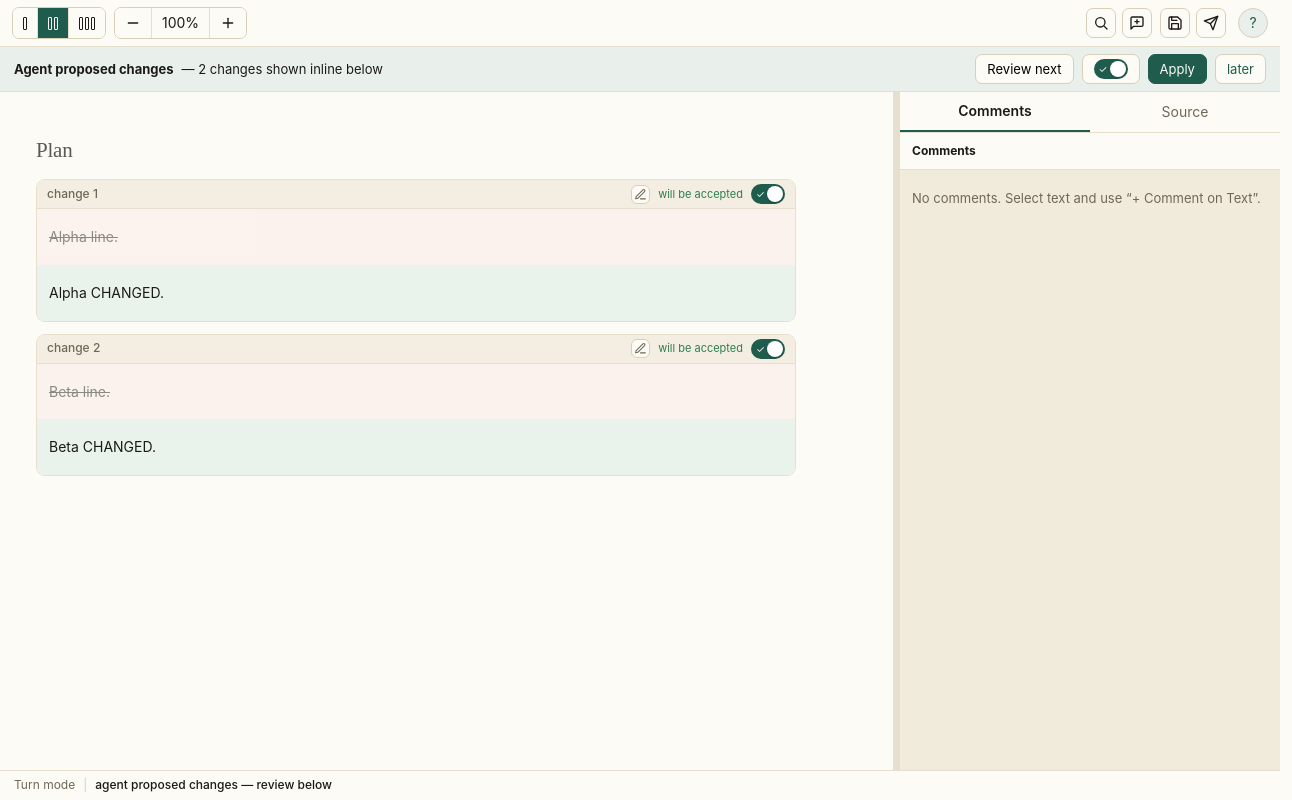
Scenario: App deep review flow (memory-backed) › "Review next" steps the N/total cursor across the change hunks
The width and height of the screenshot is (1292, 800).
Click the button "Review next": click(1024, 69) [975,54,1074,84]
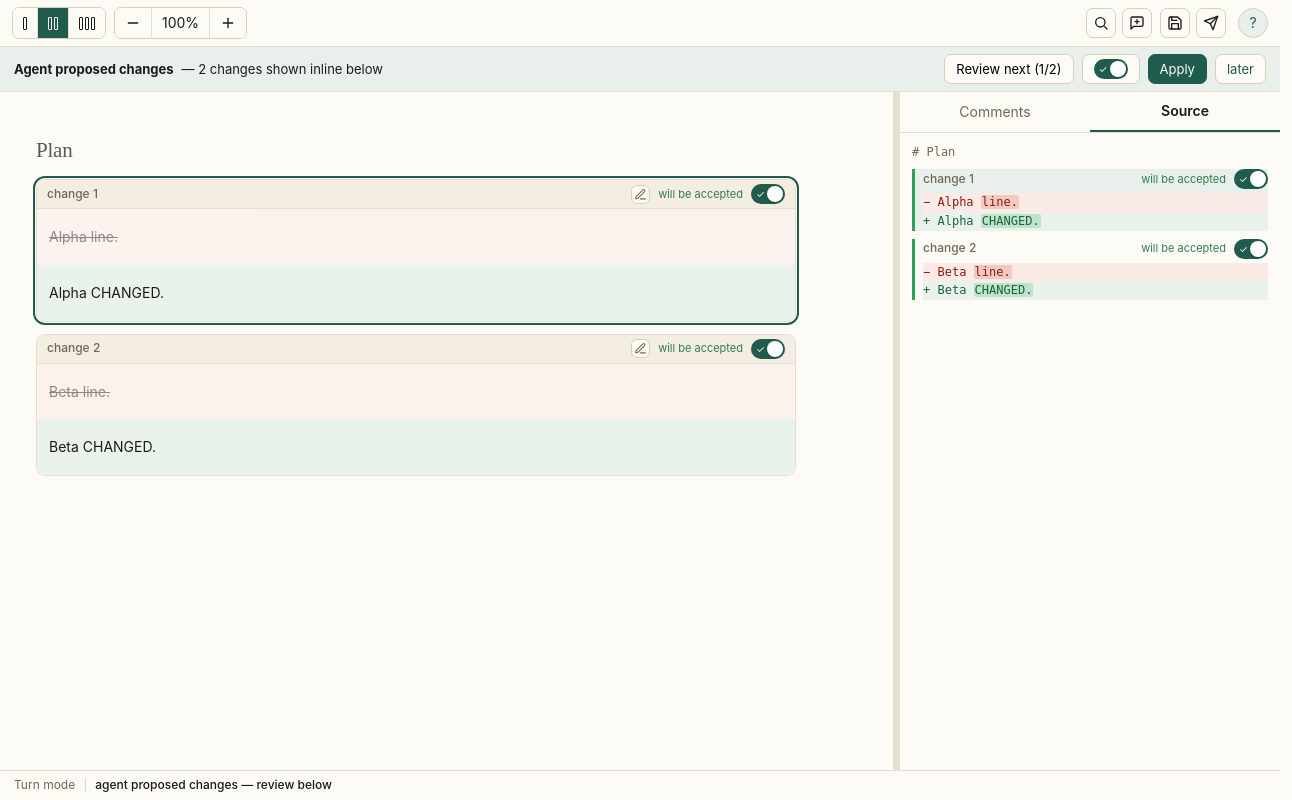
Expected: the button "Review next (1/2)" is shown
Click the button "Review next (1/2)": click(1009, 69) [944,54,1074,84]
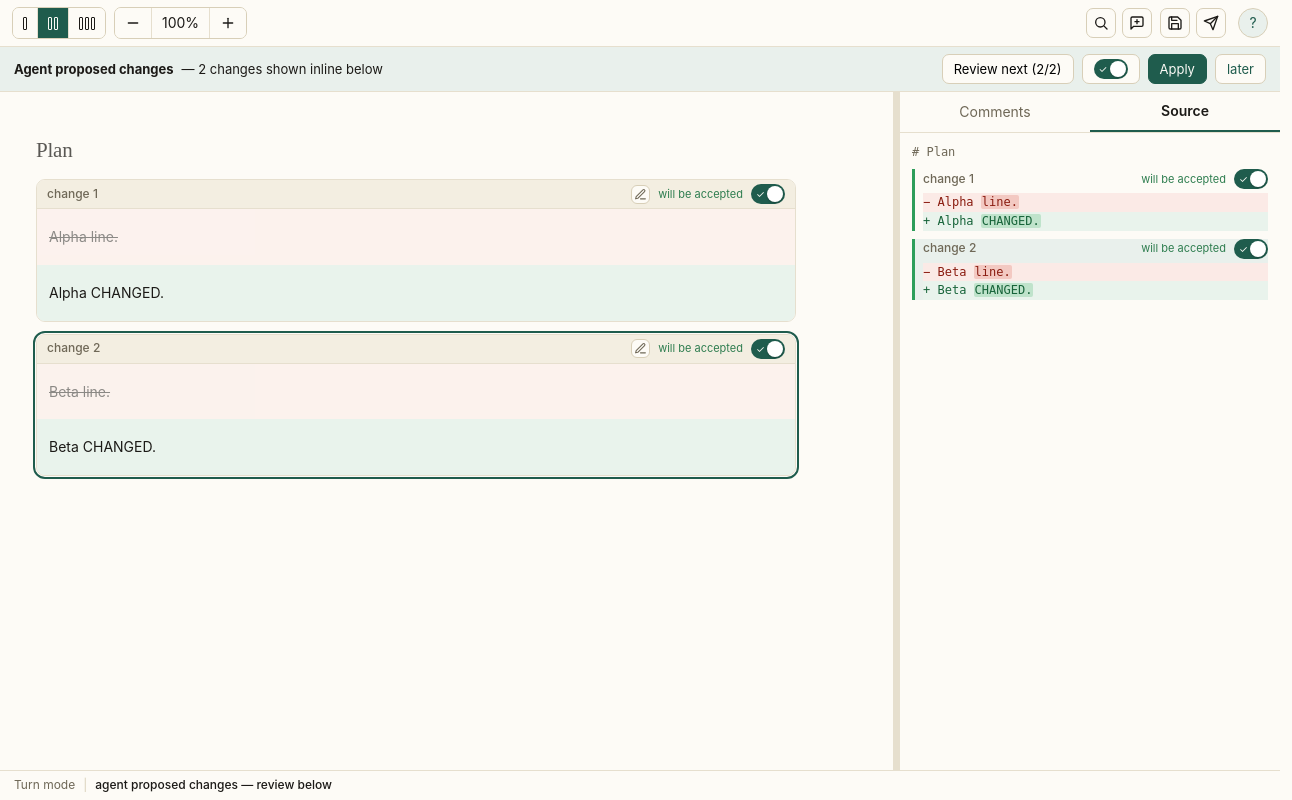
Expected: the button "Review next (2/2)" is shown
# Wraps back around to 1/2.
Click the button "Review next (2/2)": click(1008, 69) [942,54,1074,84]
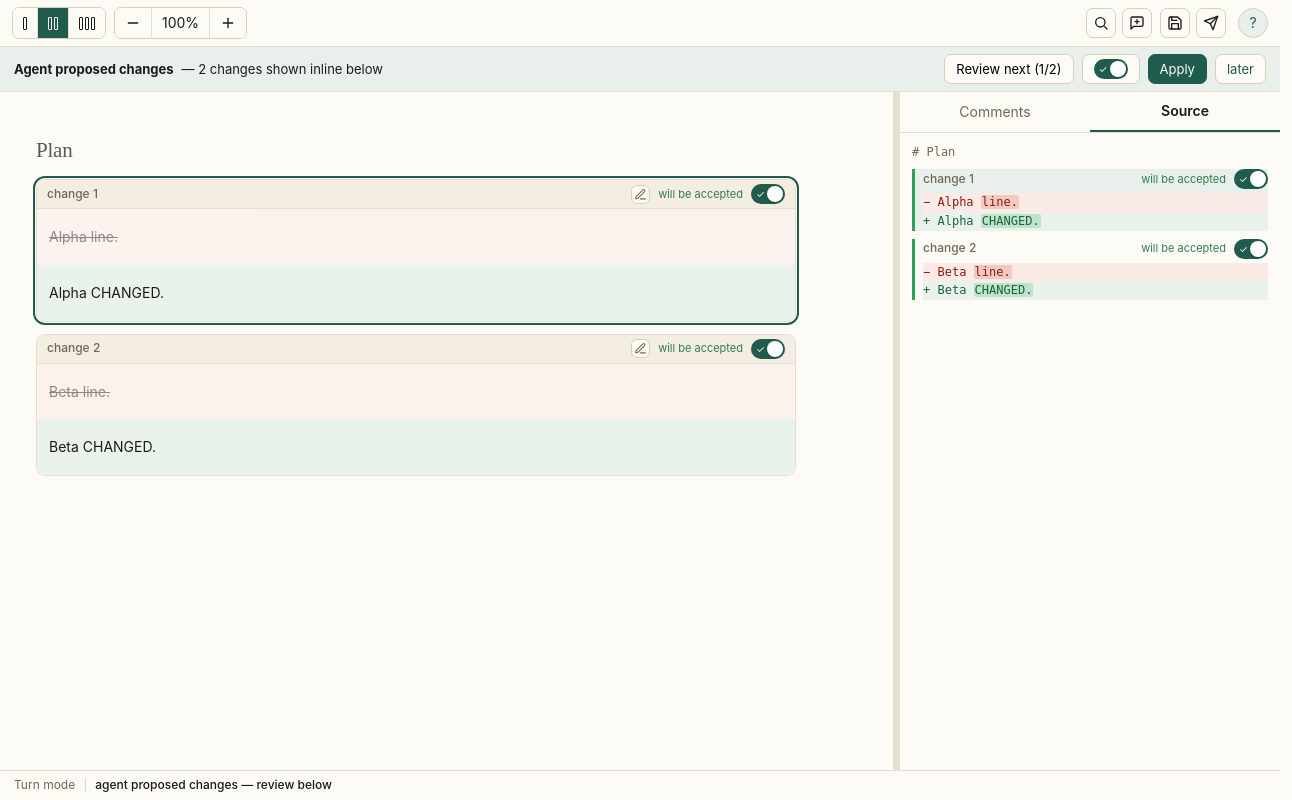
Expected: the button "Review next (1/2)" is shown, [944,54,1074,84]
